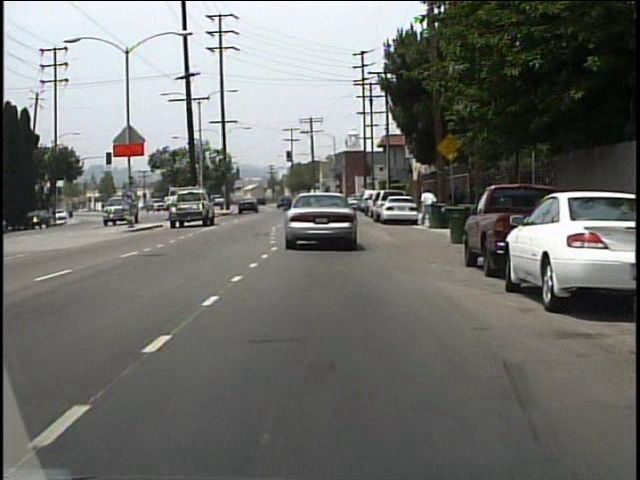person: (420, 186, 434, 230)
